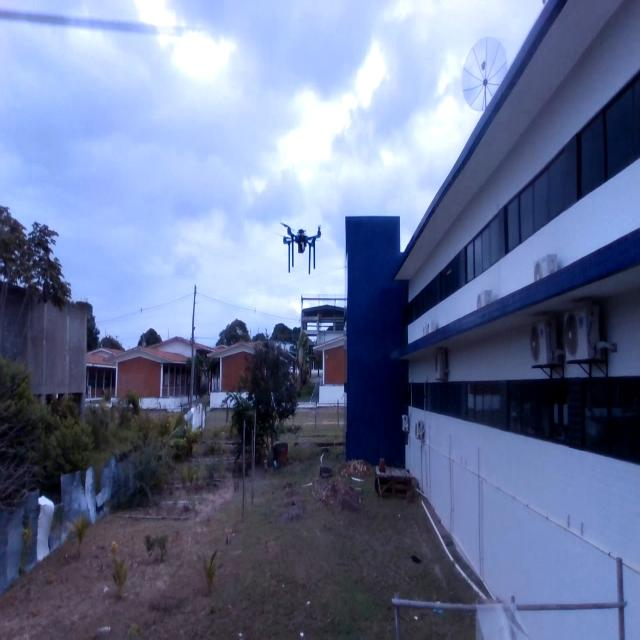-uav-: (272, 213, 328, 274)
